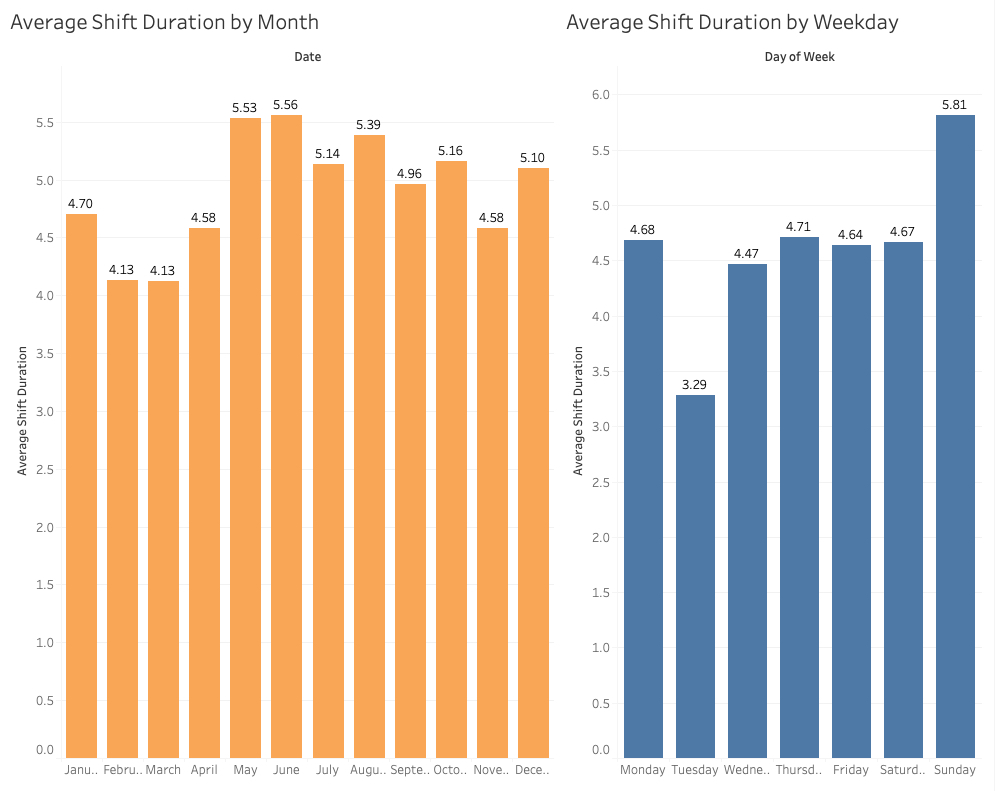

Layout of this report page (visuals, bound fields, positions):
{"tool":"tableau","page":{"name":"Dashboard 9","canvas":[1000,800],"ordinal":10},"visuals":[{"type":"worksheet","title":"-Avg Duration by Month","mark":"Bar","rows":["Duration"],"cols":["Date"],"box":[8,8,556,784]},{"type":"worksheet","title":"-Avg Duration by Weekday","mark":"Automatic","rows":["Duration"],"cols":["Day of Week"],"box":[564,8,428,784]}]}

Visuals, with their boxes in screenshot pixels (x1, y1, x2, y2), scaled from the page's 1000x800 canvas onto the 995x791 screenshot:
"-Avg Duration by Month" worksheet (Bar marks): bbox=(8, 8, 561, 783)
"-Avg Duration by Weekday" worksheet: bbox=(561, 8, 987, 783)
